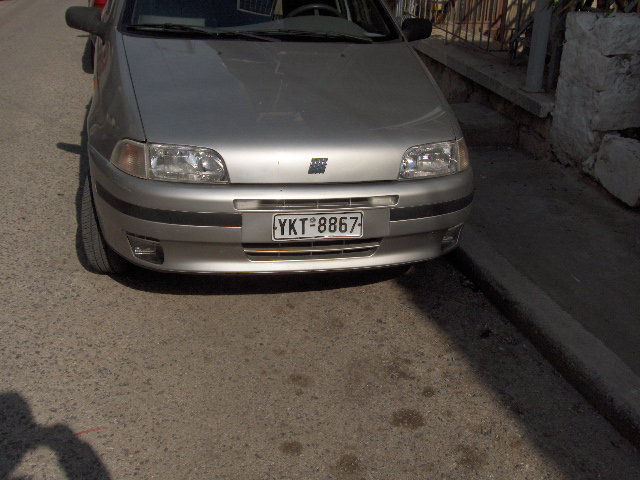licenseplate: (271, 209, 364, 241)
